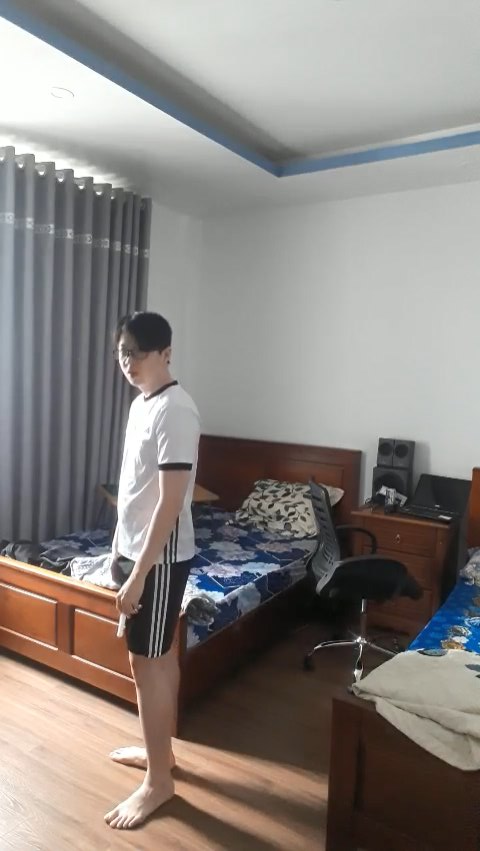person: (81, 306, 222, 840), (115, 610, 129, 639)
